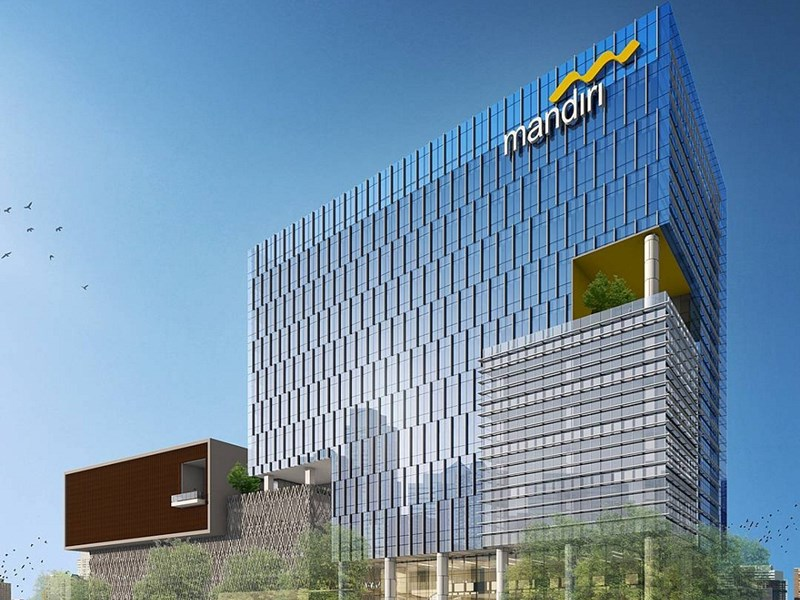Sky Building: (240, 3, 730, 558)
